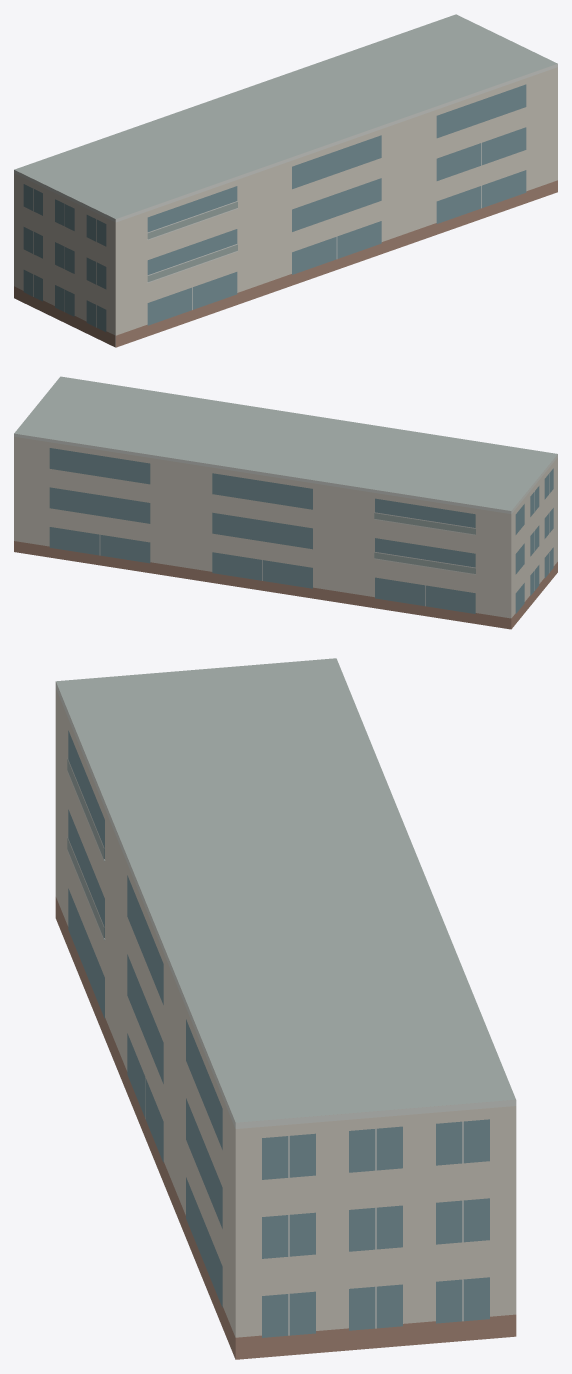
File: survey-upis-32753543.glb
3 renders of one model, top to bottom at view 1: azimuth 30°, elevation 25°; view 2: azimuth 150°, elevation 25°; view 3: azimuth 270°, elevation 25°, orthographic. The views are drawn at different scales.
Parts seen in each view (by area): view 1: survey-upis-32753543.tmp; view 2: survey-upis-32753543.tmp; view 3: survey-upis-32753543.tmp.
Part boxes in pixels (x1=…): survey-upis-32753543.tmp: x1=14, y1=14, x2=557, y2=347; survey-upis-32753543.tmp: x1=14, y1=376, x2=557, y2=629; survey-upis-32753543.tmp: x1=55, y1=658, x2=516, y2=1359.
Size of the model in its own units: 38.5 by 9.15 by 16.13.
